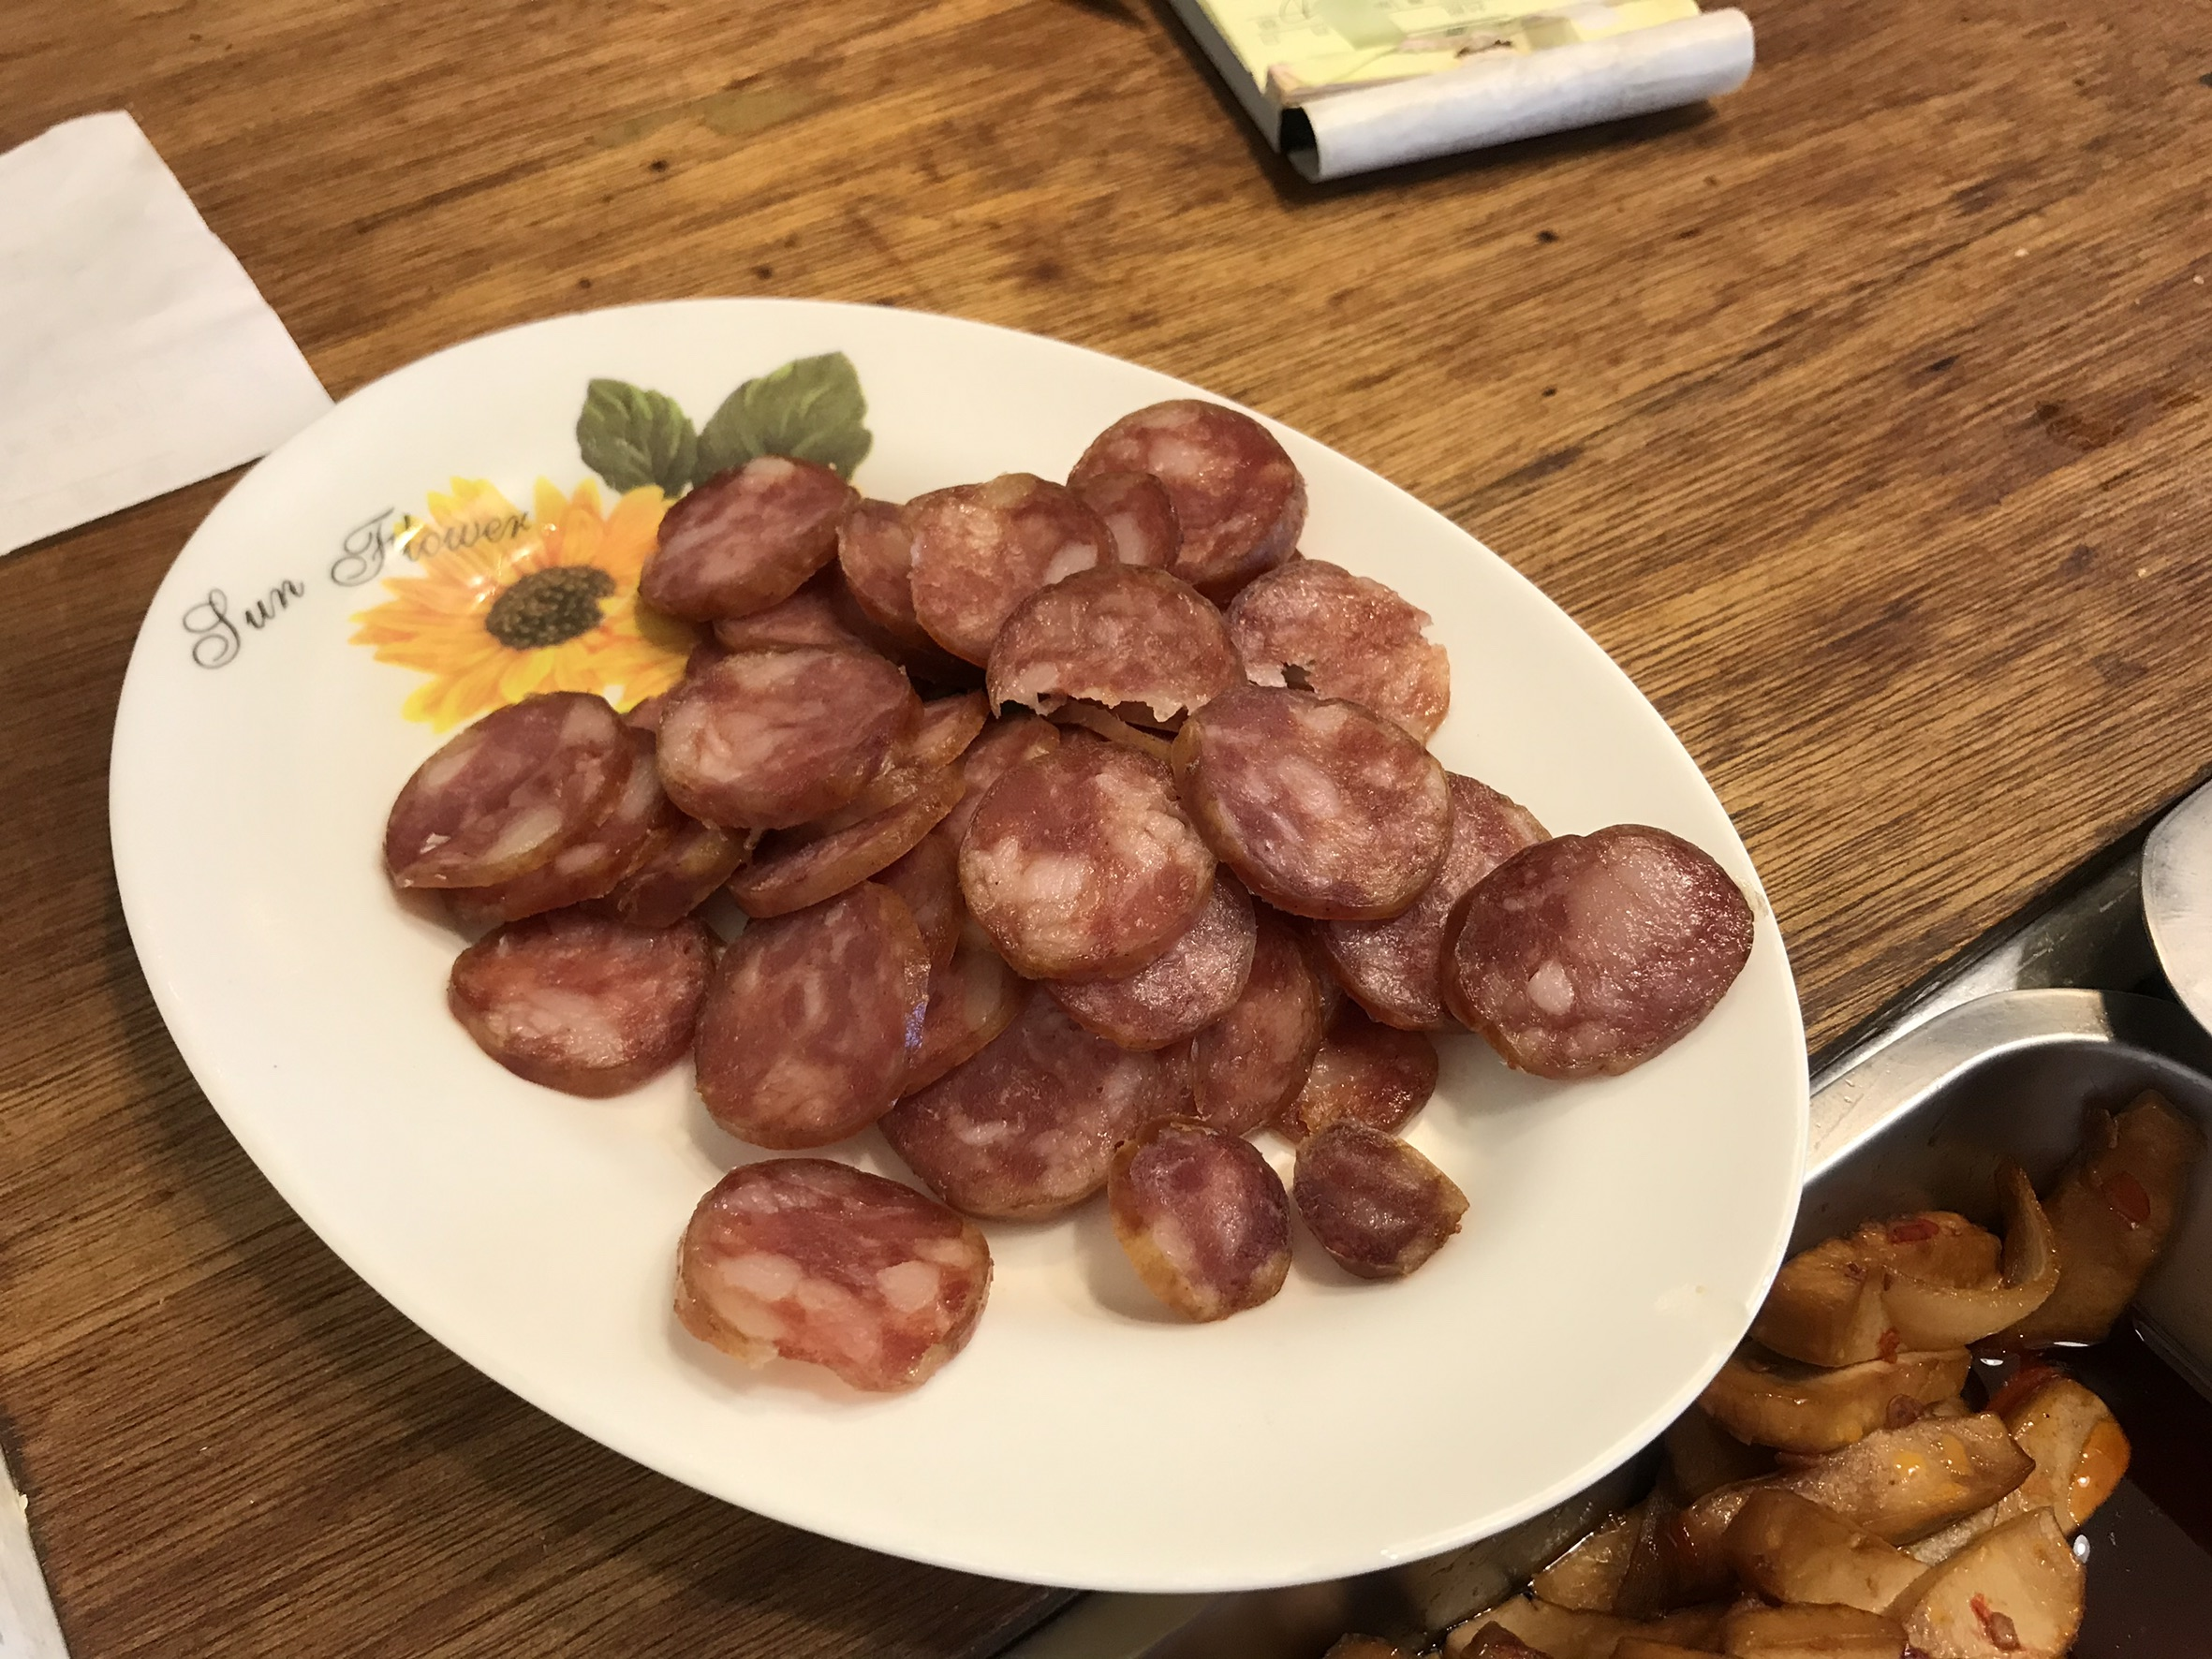chinese_sausage: (385, 404, 1752, 1394)
